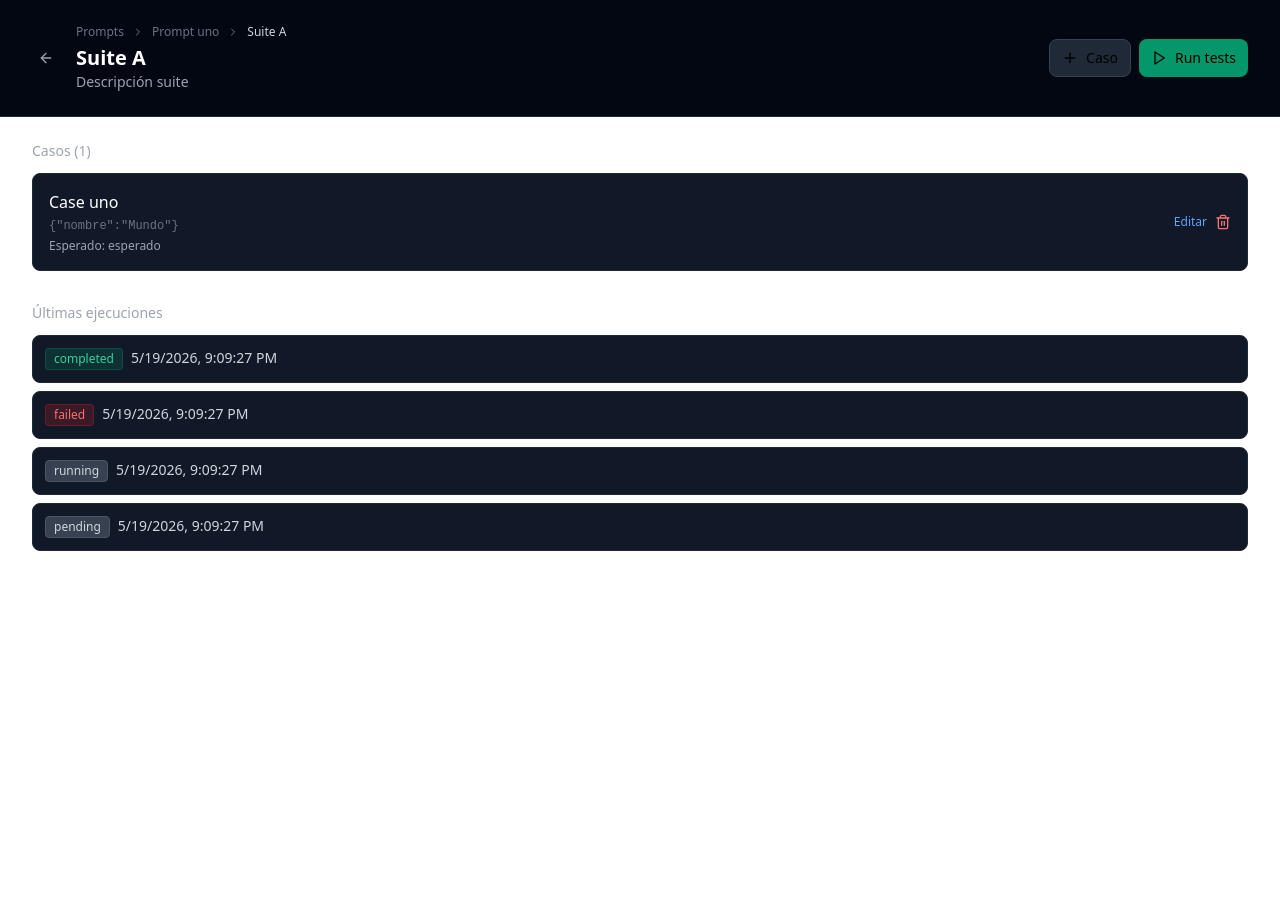
it: TestSuiteDetailPage › modal crear: validación nombre obligatorio
Expected: the heading "Suite A" is shown, 76,44 -> 146,71
Click the button "Caso". click: click(1090, 58)
box: 1049,39 -> 1131,77
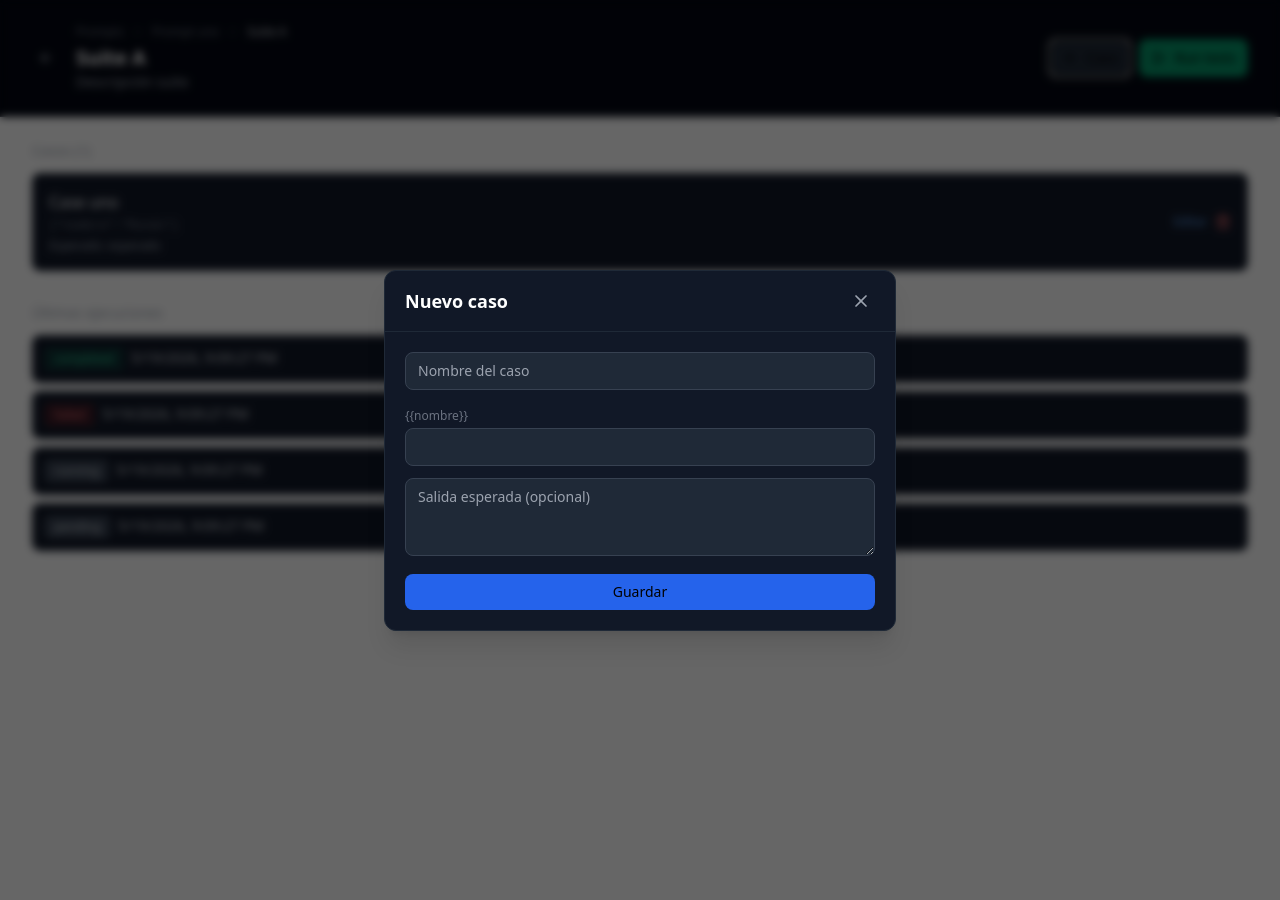
Click the button "Guardar". click: click(640, 592)
box: 405,574 -> 875,610
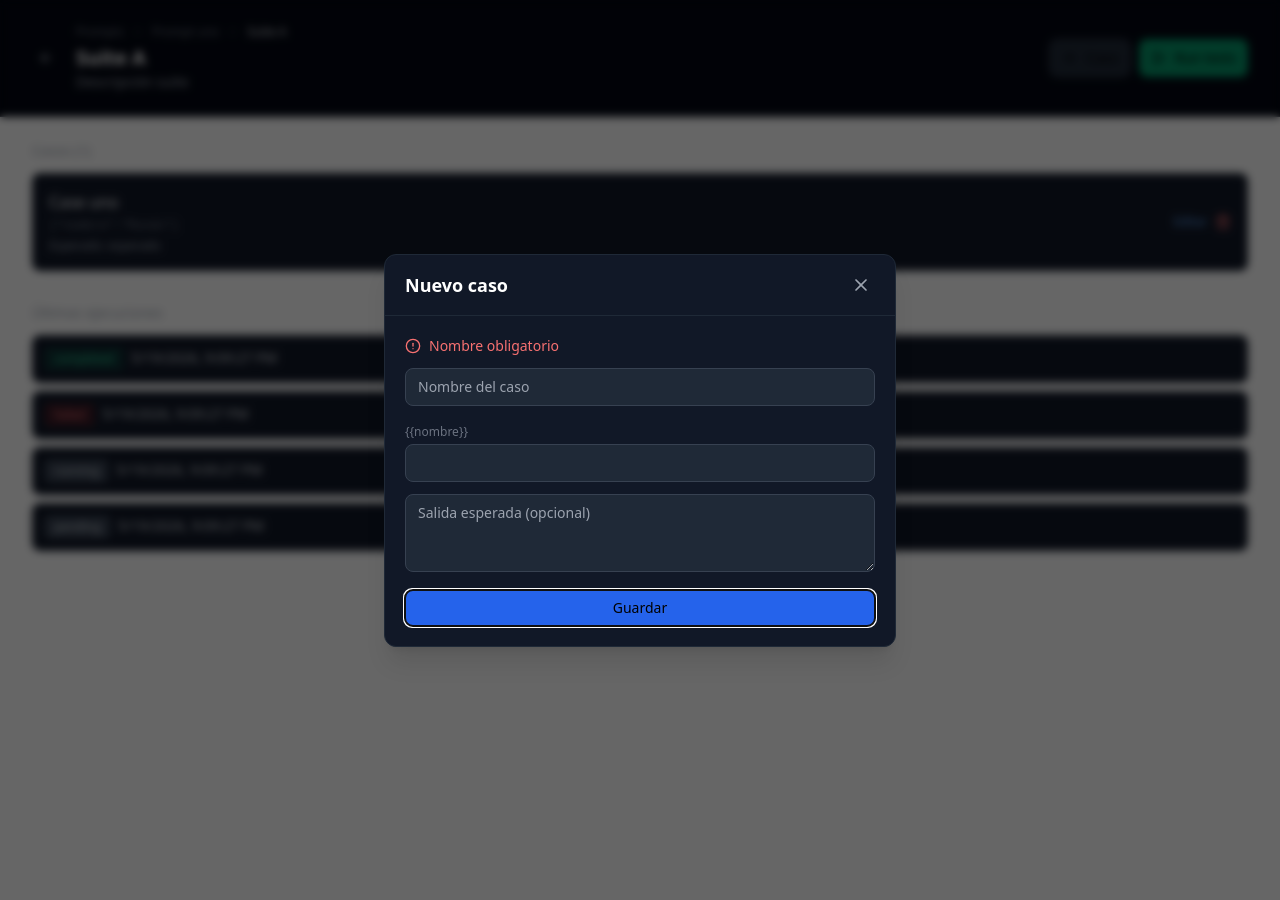
Expected: the text "Nombre obligatorio" is shown, 405,336 -> 559,354
